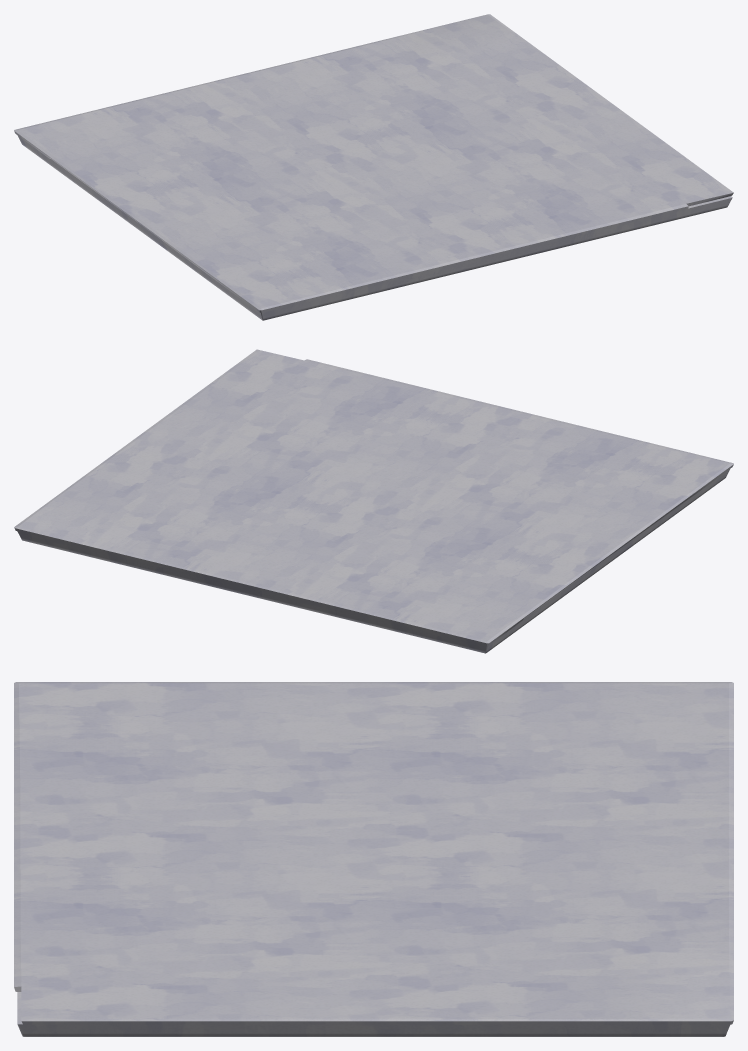
Rendered from 1stFloor.obj.
3 renders of one model, top to bottom at view 1: azimuth 30°, elevation 25°; view 2: azimuth 150°, elevation 25°; view 3: azimuth 270°, elevation 25°, orthographic. The views are drawn at different scales.
Parts seen in each view (by area): view 1: Ground_1st_Untitled; view 2: Ground_1st_Untitled; view 3: Ground_1st_Untitled.
Part boxes in pixels (x1,y1,x2,y2): Ground_1st_Untitled: (14,14,733,320); Ground_1st_Untitled: (14,349,733,653); Ground_1st_Untitled: (14,682,733,1036).
Bounding box in the file's own units: 12.4 × 0.3589 × 11.13.
